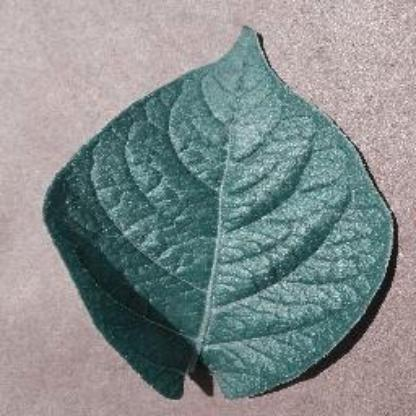Healthy-plant: (32, 22, 393, 400)
